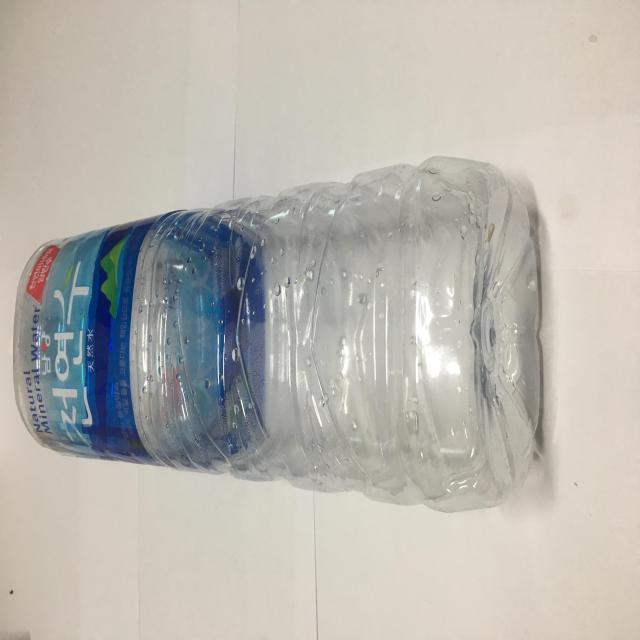bottle: (15, 156, 548, 510)
